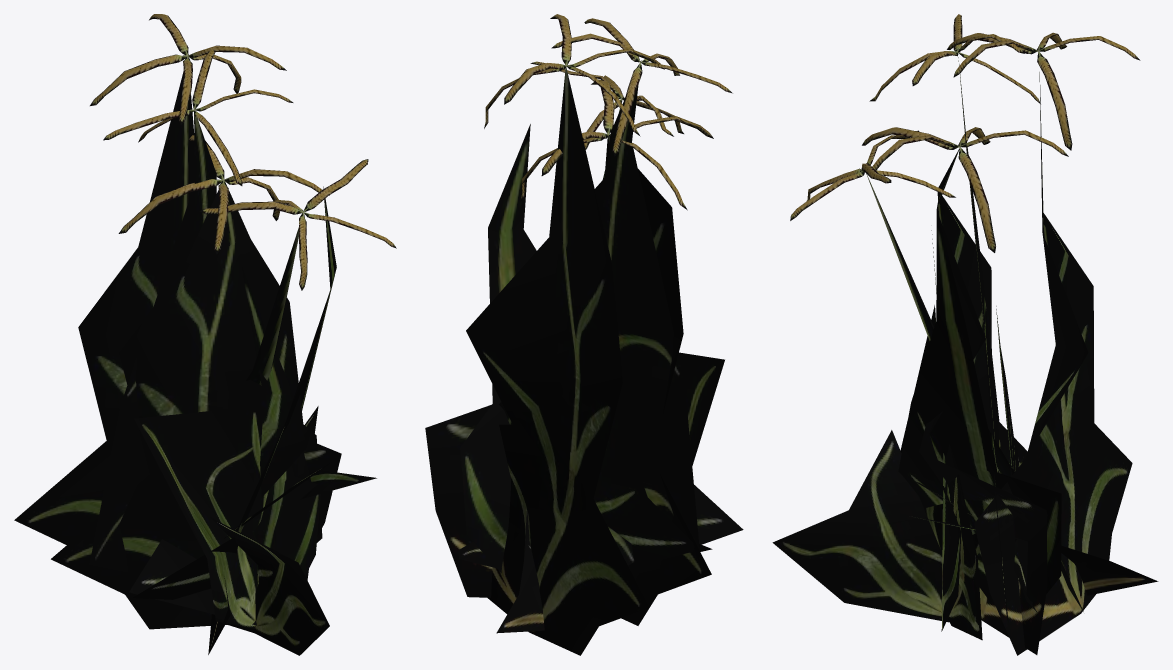
The model's file is grass_bermuda_01.glb.
The picture shows the model from 3 angles, left to right: view 1: azimuth 30°, elevation 25°; view 2: azimuth 150°, elevation 25°; view 3: azimuth 270°, elevation 25°; orthographic projection.
Visible parts, largest first — view 1: grass_bermuda_01_seedling_b, grass_bermuda_01_seedling_d, grass_bermuda_01_medium_c, grass_bermuda_01_seedling_a, grass_bermuda_01_medium_d, grass_bermuda_01_medium_e; view 2: grass_bermuda_01_seedling_d, grass_bermuda_01_seedling_a, grass_bermuda_01_seedling_b, grass_bermuda_01_medium_e, grass_bermuda_01_medium_c; view 3: grass_bermuda_01_seedling_d, grass_bermuda_01_medium_c, grass_bermuda_01_seedling_a, grass_bermuda_01_seedling_b, grass_bermuda_01_medium_d, grass_bermuda_01_medium_e.
Part boxes in pixels (x1,y1,x2,y2): grass_bermuda_01_seedling_b: (51, 135, 329, 629); grass_bermuda_01_seedling_d: (14, 14, 396, 544); grass_bermuda_01_medium_c: (134, 406, 329, 655); grass_bermuda_01_seedling_a: (89, 49, 336, 599); grass_bermuda_01_medium_d: (129, 262, 320, 625); grass_bermuda_01_medium_e: (77, 460, 376, 654); grass_bermuda_01_seedling_d: (466, 14, 683, 655); grass_bermuda_01_seedling_a: (460, 18, 743, 574); grass_bermuda_01_seedling_b: (425, 79, 713, 625); grass_bermuda_01_medium_e: (458, 410, 699, 569); grass_bermuda_01_medium_c: (496, 352, 724, 633); grass_bermuda_01_seedling_d: (790, 32, 1140, 655); grass_bermuda_01_medium_c: (772, 305, 1158, 640); grass_bermuda_01_seedling_a: (869, 14, 1061, 622); grass_bermuda_01_seedling_b: (862, 127, 1068, 654); grass_bermuda_01_medium_d: (931, 230, 961, 631); grass_bermuda_01_medium_e: (892, 306, 1037, 612).
Size of the model in its own units: 0.0766 by 0.1522 by 0.0916.
1 material, 1 textured.
